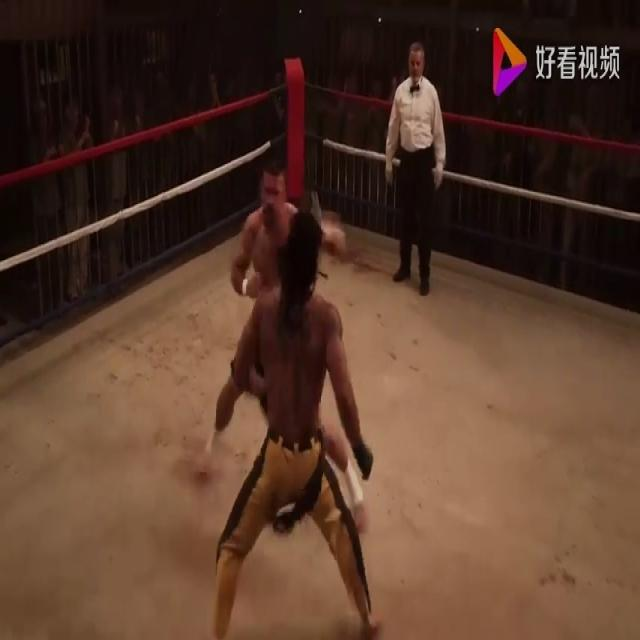fight: (200, 162, 380, 639)
non-fight: (386, 42, 449, 297)
